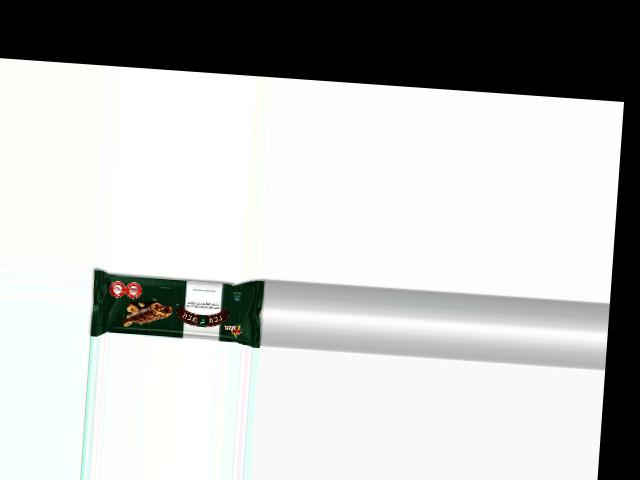chocolate: (88, 265, 267, 348)
